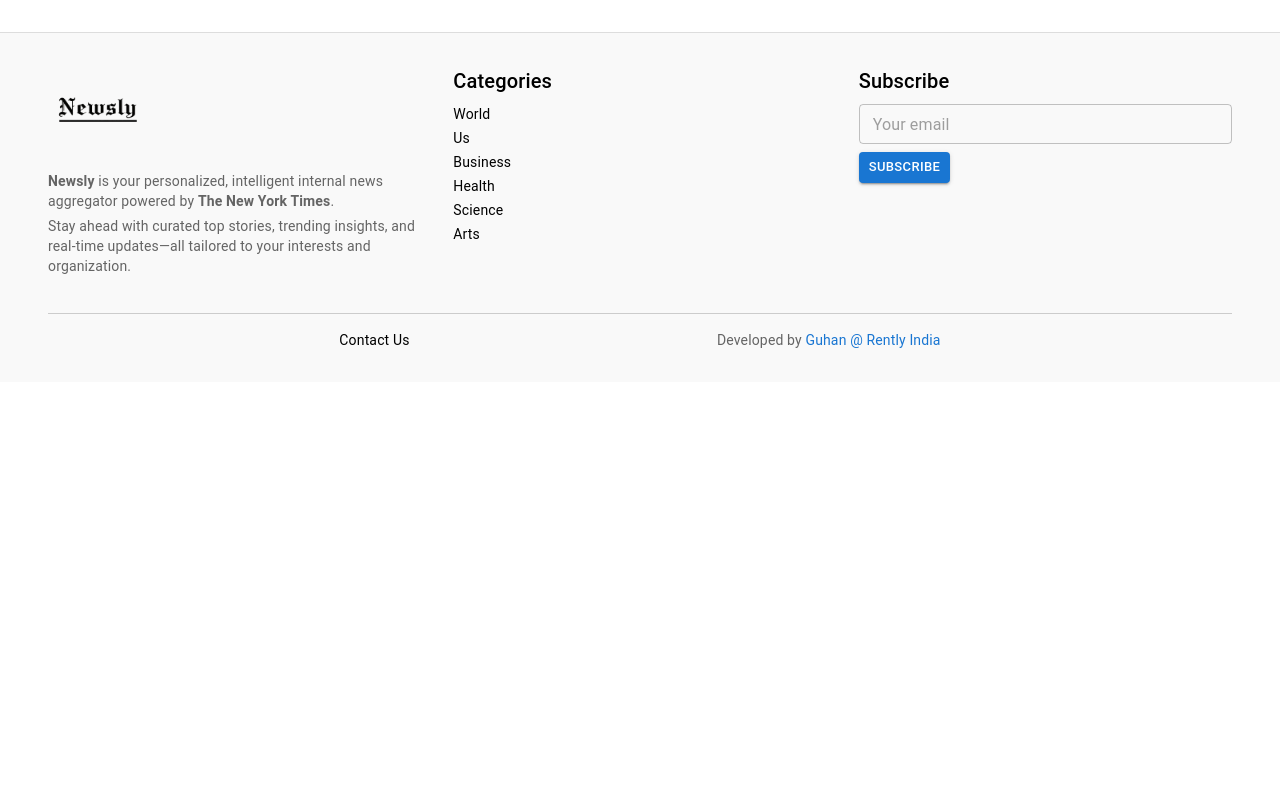
it: Footer Component › validates and shows success snackbar on valid email
Type "test@example.com" into the field with placeholder "Your email" at (1045, 124), box [859,104,1232,144]
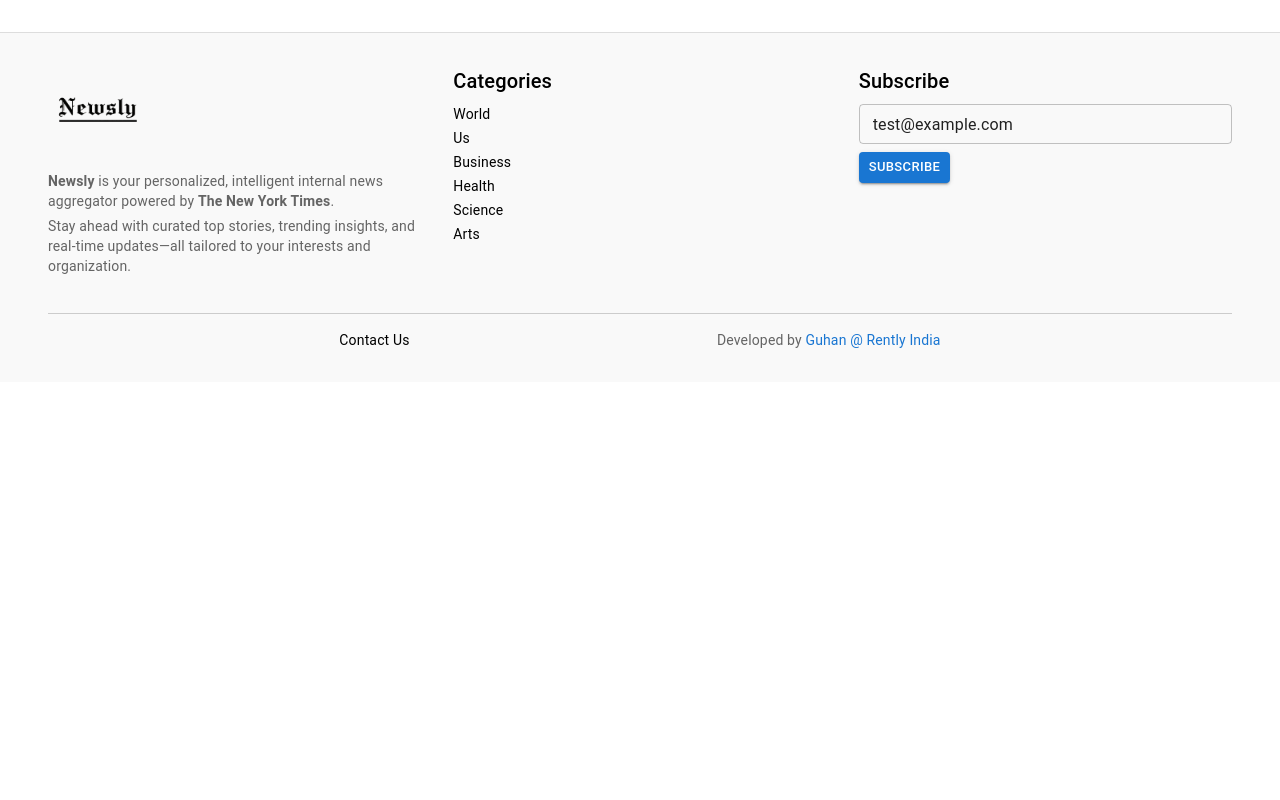
Click the button "Subscribe" at (904, 167), box [859,152,950,183]
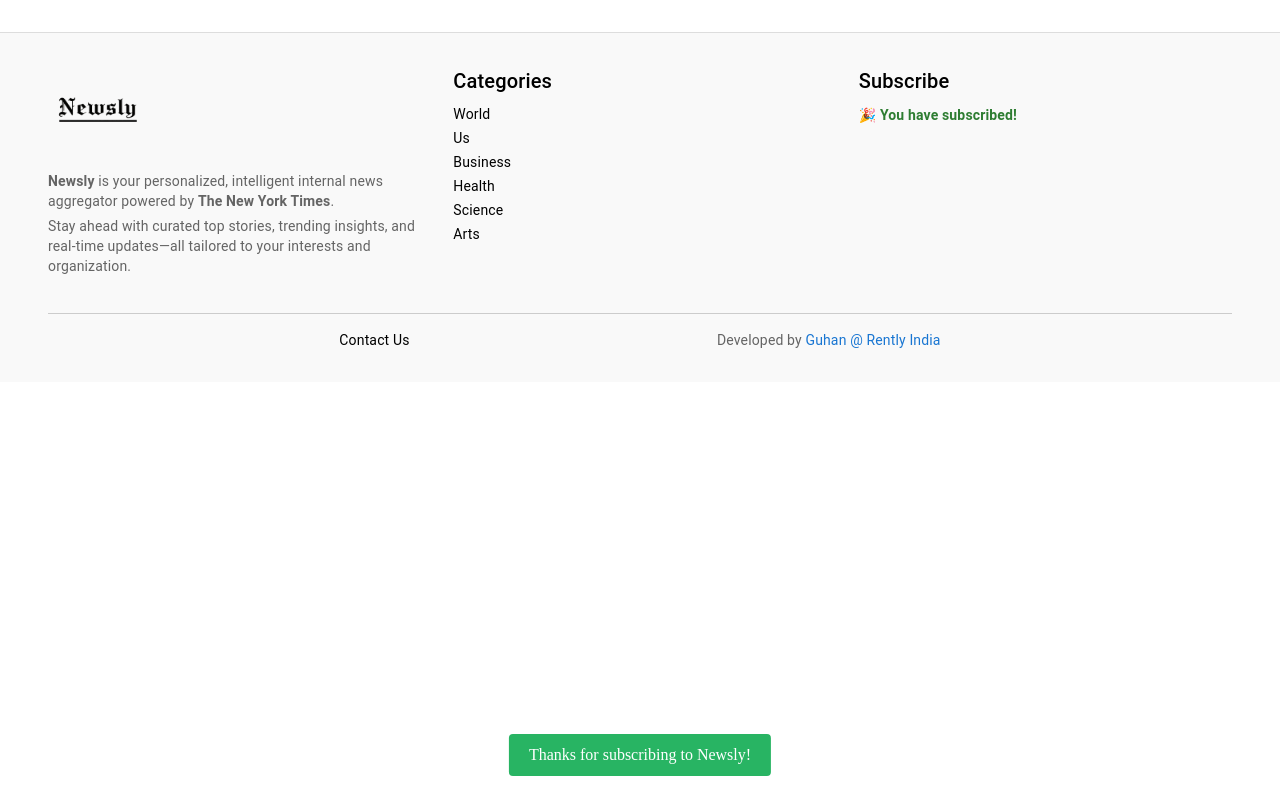
Expected: the text "Thanks for subscribing to Newsly!" is shown, [509,734,771,776]
